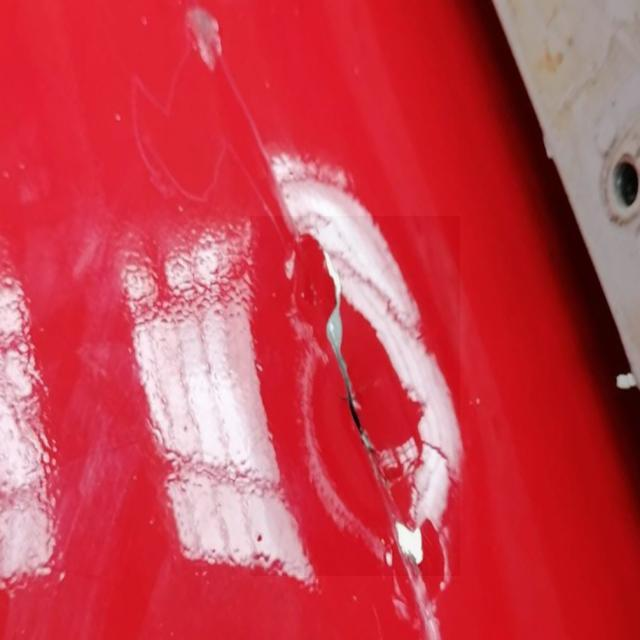crack: (252, 217, 462, 577)
